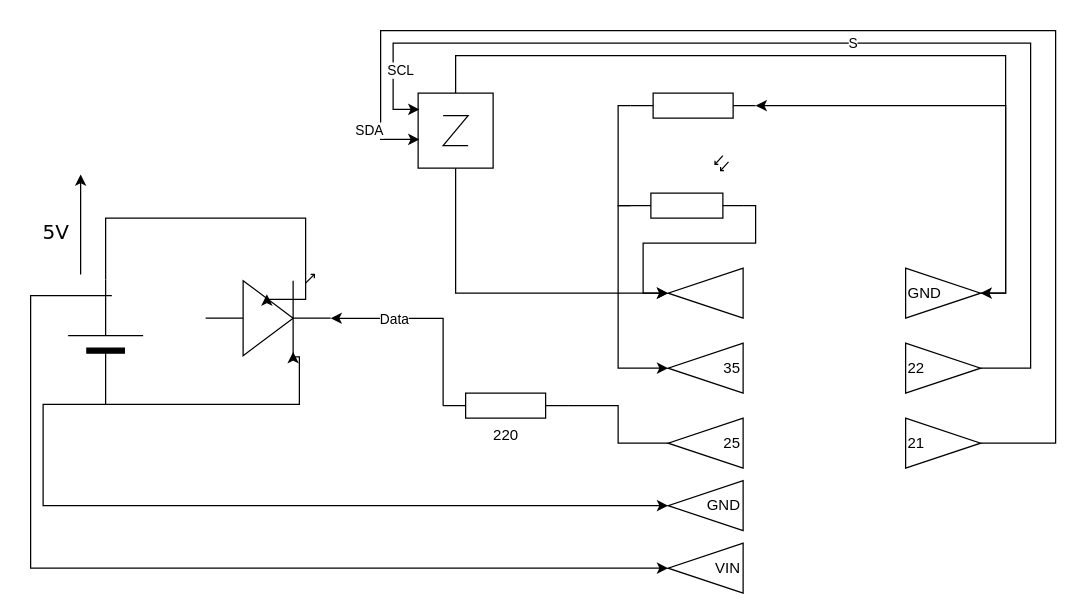
This 1088x615 diagram has some shape labels left out. The shapes that lost their labels are listed below. From the top down, each one's centre as x and y in pixels, then its label:
(692,105): 10K
(705,292): 3.3 V
